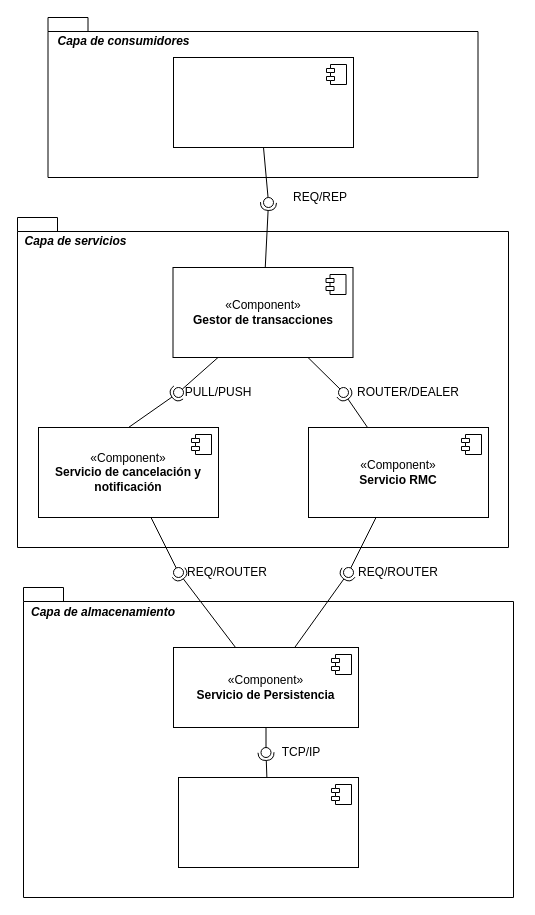
The diagram is 535 pixels wide and 915 high, and some of its shapes have lost their labels. Here are the shapes that lost their labels. From the top down, the centre of each, then its label:
point (263, 102): «Component» Clientes
point (268, 822): «Component» Postgre SQL DB
